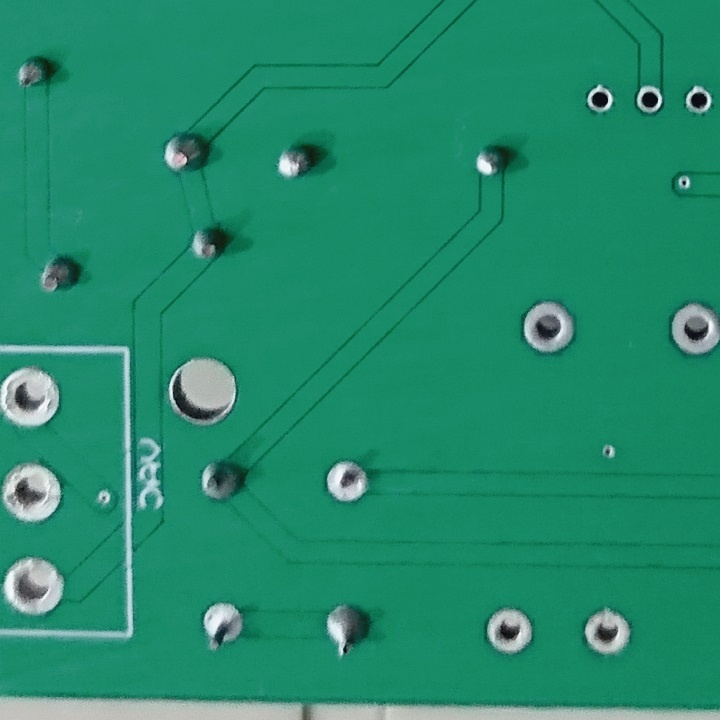F: (1, 553, 68, 618), (1, 365, 66, 431), (1, 459, 65, 526), (519, 298, 577, 360), (666, 301, 720, 356), (482, 604, 536, 658), (198, 598, 247, 656), (581, 607, 633, 658), (322, 458, 373, 507), (582, 83, 618, 118), (633, 82, 666, 117), (683, 83, 716, 118)
